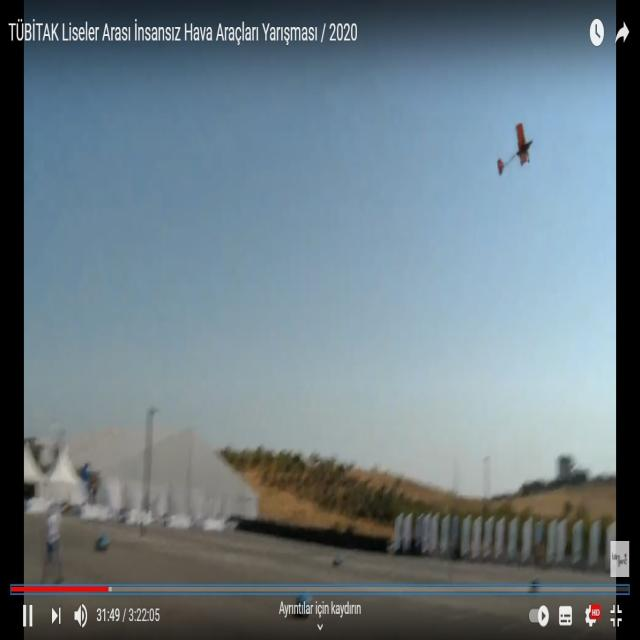iha: (491, 117, 534, 177)
